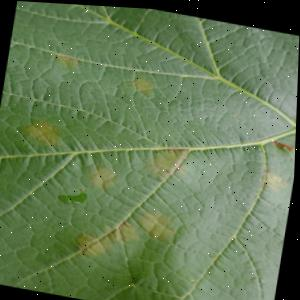Folha: (0, 0, 300, 300)
Fungo: (75, 211, 145, 264), (144, 141, 197, 188), (132, 202, 183, 241), (253, 160, 296, 196), (23, 115, 67, 148), (87, 161, 122, 191), (59, 184, 92, 210), (119, 217, 145, 244), (132, 74, 159, 94), (54, 53, 81, 69), (274, 136, 296, 149)
